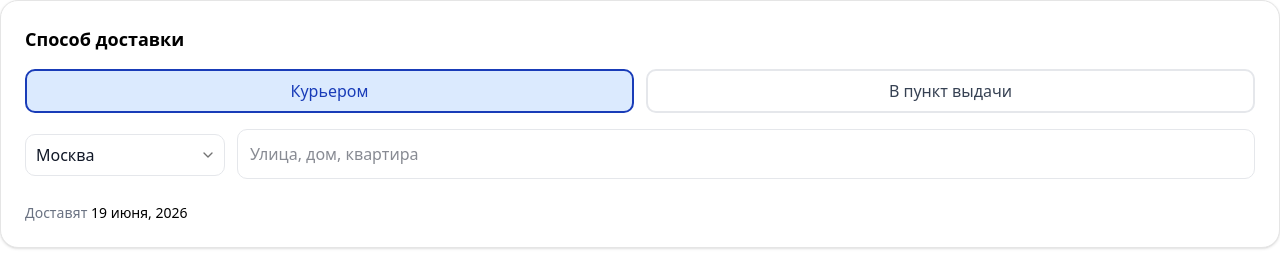
Scenario: DeliveryMethodCard Component › должен отображать адрес выбранного пункта выдачи
This screenshot has width=1280, height=266.
Click the button with test id "pickup-tab".
click(950, 91)  # box [646, 69, 1255, 113]
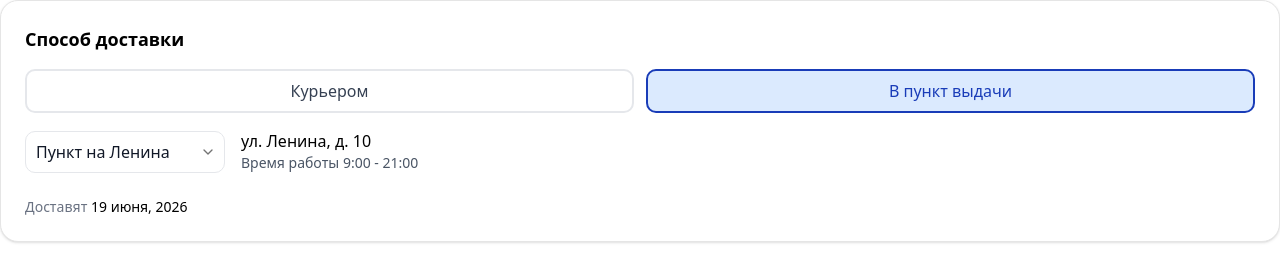
expect the text "ул. Ленина, д. 10" is shown: met, box [241, 130, 371, 152]
expect the text "Время работы 9:00 - 21:00" is shown: met, box [241, 153, 418, 173]
